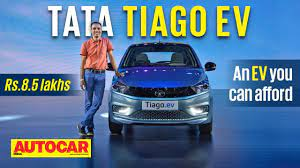Tiago: (108, 38, 217, 142)
